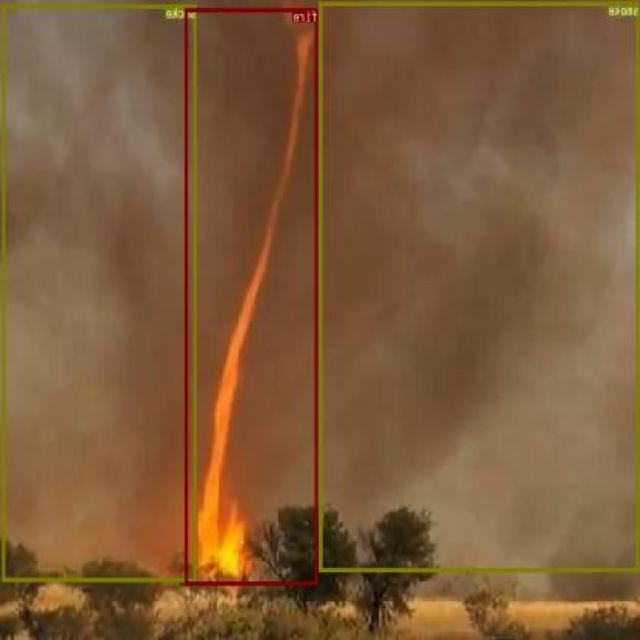Fire: (186, 8, 319, 584)
Smoke: (320, 2, 640, 570), (3, 4, 197, 580)
